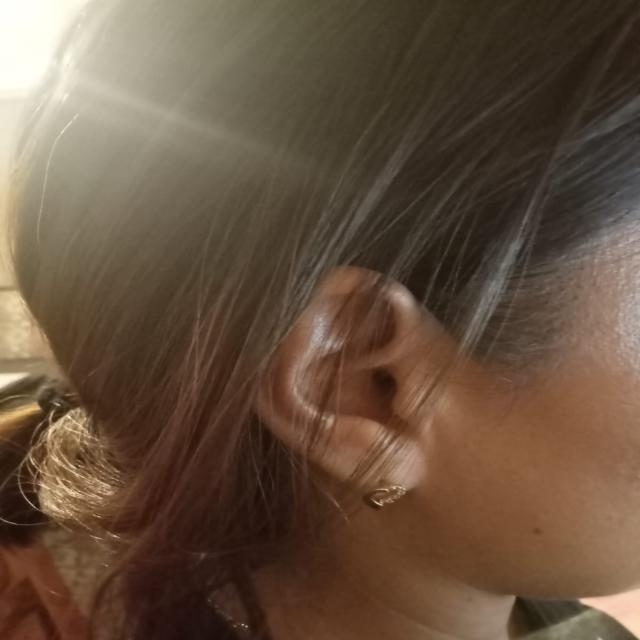ear: (257, 265, 423, 495)
